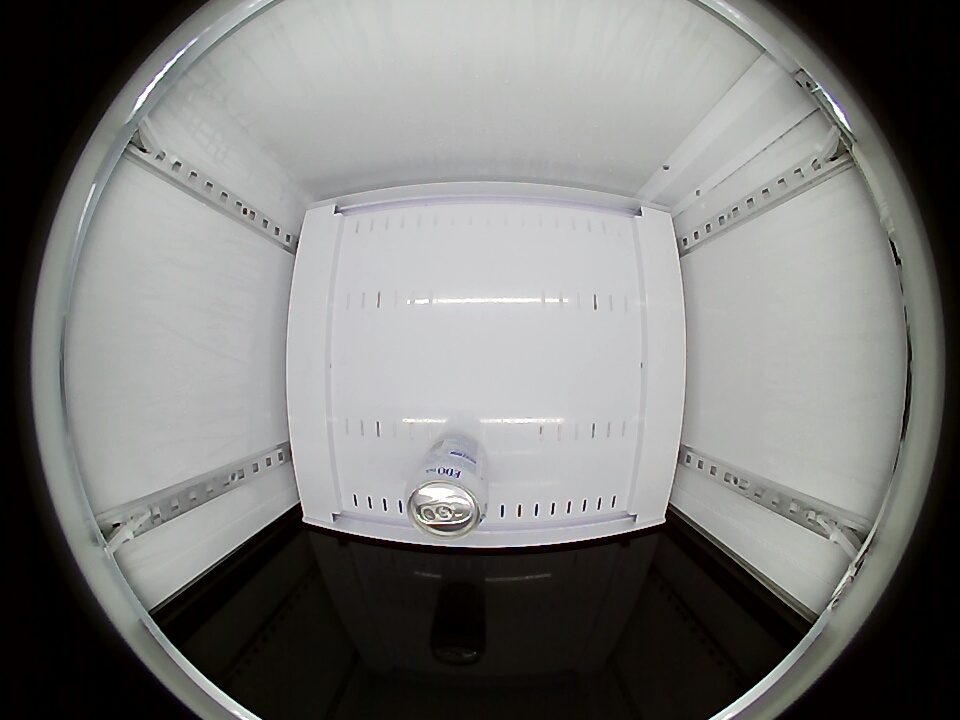rusuanjunqishui: (404, 462, 488, 540)
